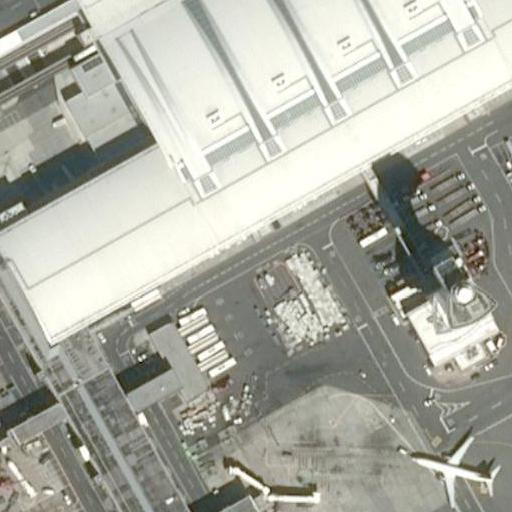Aircraft: (401, 428, 504, 508)
